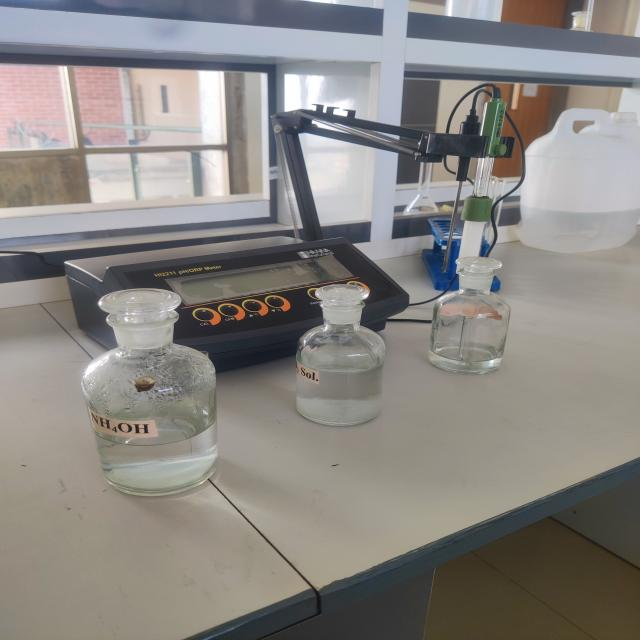Reagent_Bottle: (56, 277, 248, 528), (271, 261, 415, 445), (420, 242, 534, 398)
